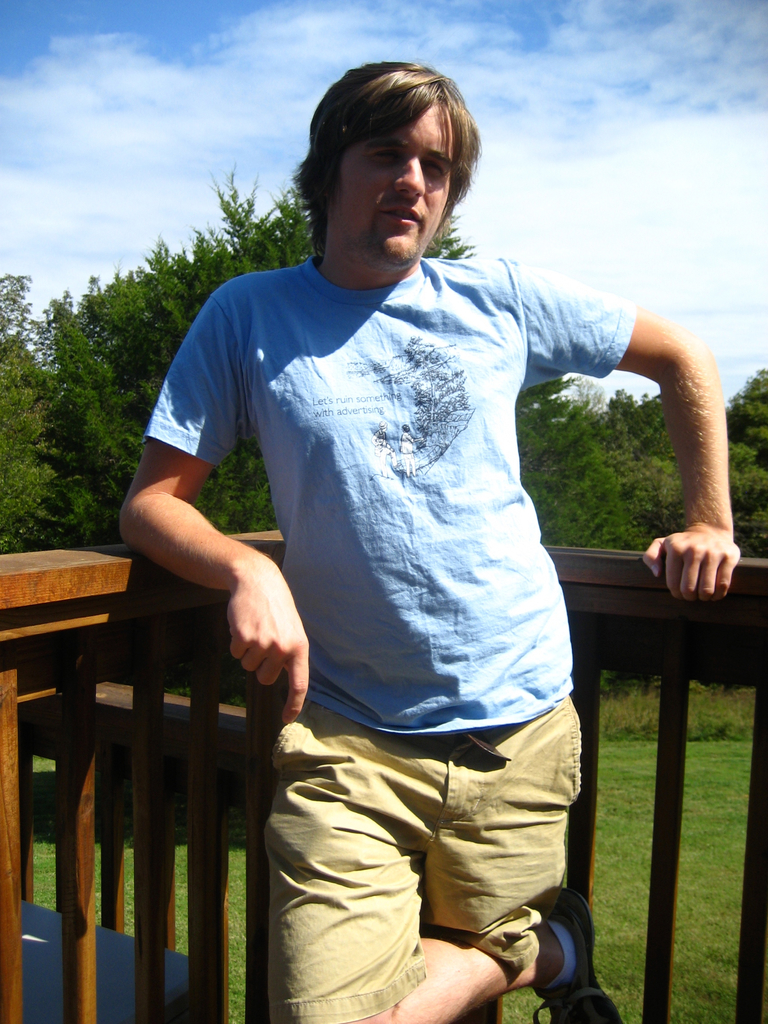Human_hand: (222, 564, 311, 725), (659, 497, 746, 599)
